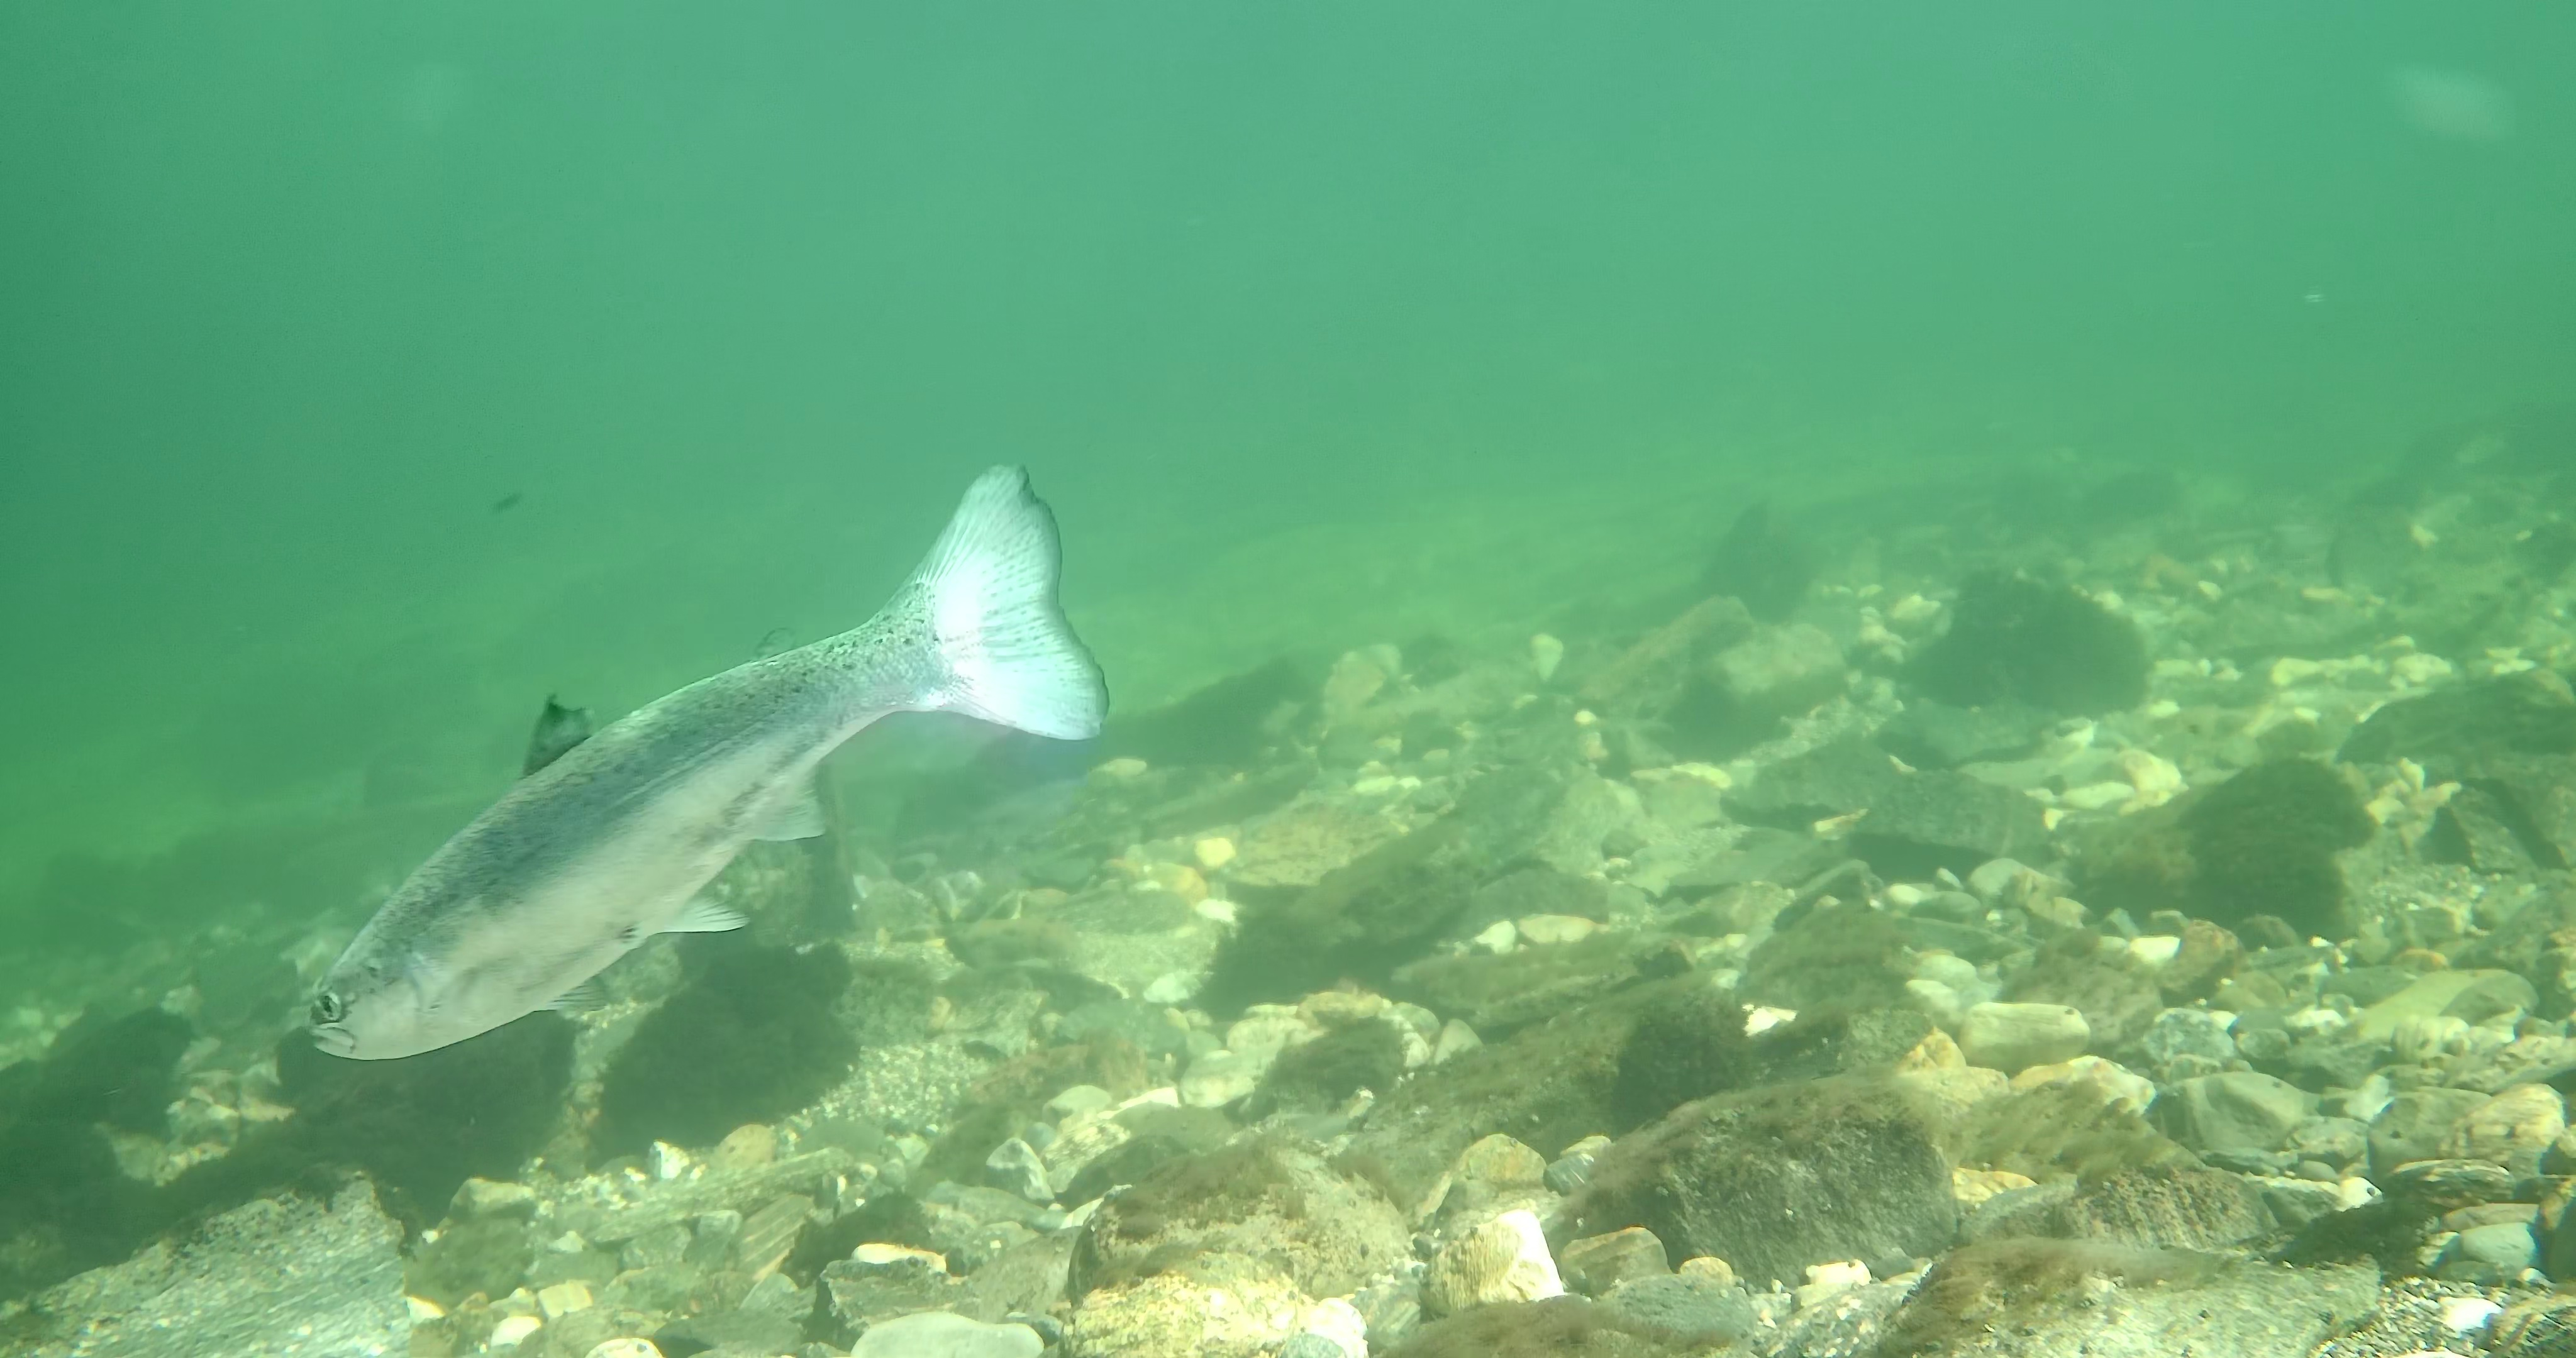salmon: (305, 458, 1114, 1063)
